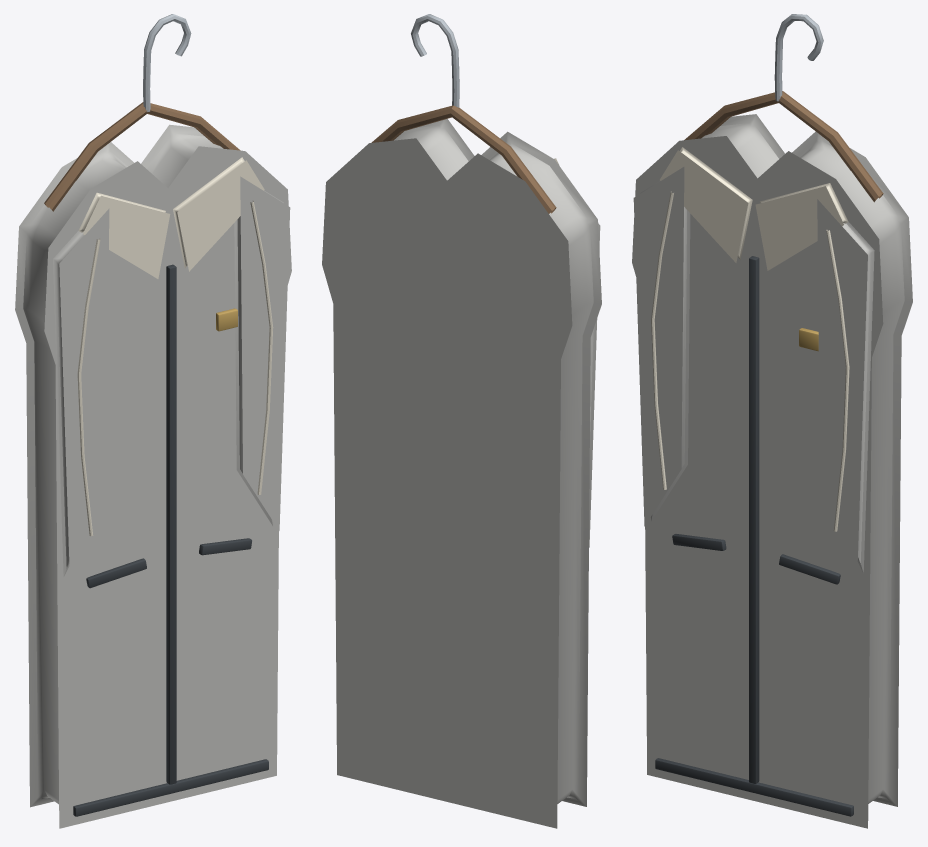
Rendered from checkout_product_hanging_jacket.glb.
3 views of the same model, side by side, from view 1: azimuth 30°, elevation 25°; view 2: azimuth 150°, elevation 25°; view 3: azimuth 330°, elevation 25° (orthographic).
Parts seen in each view (by area): view 1: HangingJacketBody, HangingJacketSleeve_L, HangingJacketSleeve_R, HangingJacketZip, HangingJacketCollar_R, HangingJacketCollar_L, HangingJacketHanger, HangingJacketHem, HangingJacketSeam_L, HangingJacketSeam_R, HangingJacketHook, HangingJacketPocket_L (+1 smaller); view 2: HangingJacketBody, HangingJacketHanger, HangingJacketHook, HangingJacketSleeve_L; view 3: HangingJacketBody, HangingJacketSleeve_R, HangingJacketSleeve_L, HangingJacketZip, HangingJacketCollar_L, HangingJacketCollar_R, HangingJacketHanger, HangingJacketHem, HangingJacketSeam_R, HangingJacketSeam_L, HangingJacketHook, HangingJacketPocket_R (+1 smaller).
Boxes of the visible parts, x1,y1,x2,y2 form: HangingJacketBody: (15,124,291,828); HangingJacketSleeve_L: (53,208,109,581); HangingJacketSleeve_R: (234,176,290,530); HangingJacketZip: (166,264,176,784); HangingJacketCollar_R: (173,157,264,271); HangingJacketCollar_L: (78,192,170,278); HangingJacketHanger: (44,102,240,211); HangingJacketHem: (73,759,268,816); HangingJacketSeam_L: (77,238,100,536); HangingJacketSeam_R: (250,201,273,494); HangingJacketHook: (143,14,191,111); HangingJacketPocket_L: (86,558,146,588); HangingJacketBody: (322,119,601,828); HangingJacketHanger: (371,105,556,213); HangingJacketHook: (411,14,459,107); HangingJacketSleeve_L: (589,223,600,547); HangingJacketBody: (632,114,912,828); HangingJacketSleeve_R: (817,199,874,578); HangingJacketSleeve_L: (633,167,690,526); HangingJacketZip: (749,256,759,783); HangingJacketCollar_L: (660,147,752,262); HangingJacketCollar_R: (755,183,848,270); HangingJacketHanger: (684,91,883,202); HangingJacketHem: (655,758,853,816); HangingJacketSeam_R: (826,230,849,531); HangingJacketSeam_L: (651,191,673,489); HangingJacketHook: (774,14,823,101); HangingJacketPocket_R: (779,554,840,584).
Size of the model in its own units: 0.2682 by 0.7934 by 0.0828.
